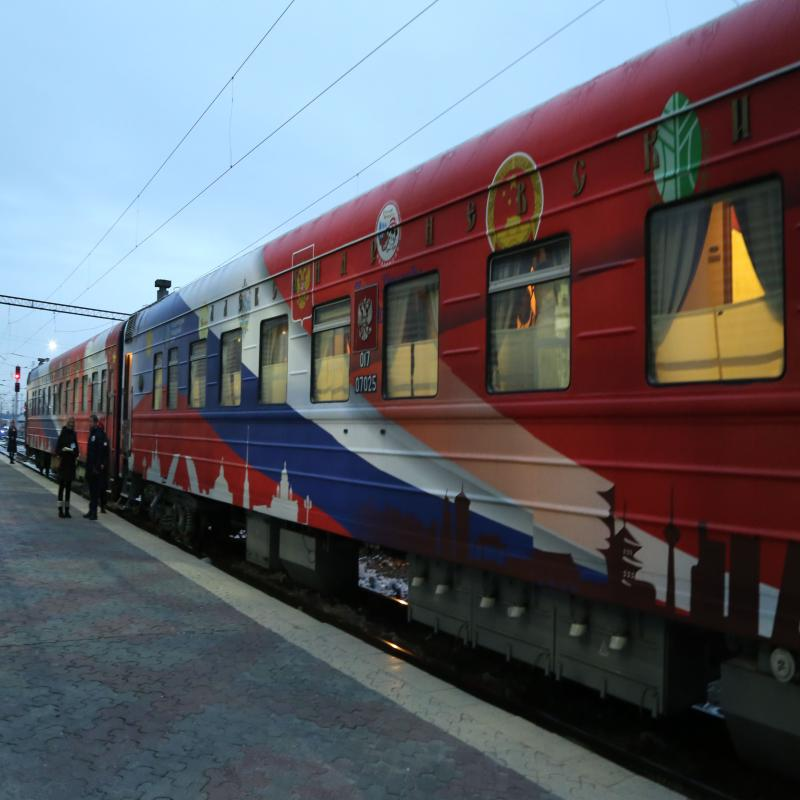train: (127, 1, 800, 766), (20, 324, 131, 502)
